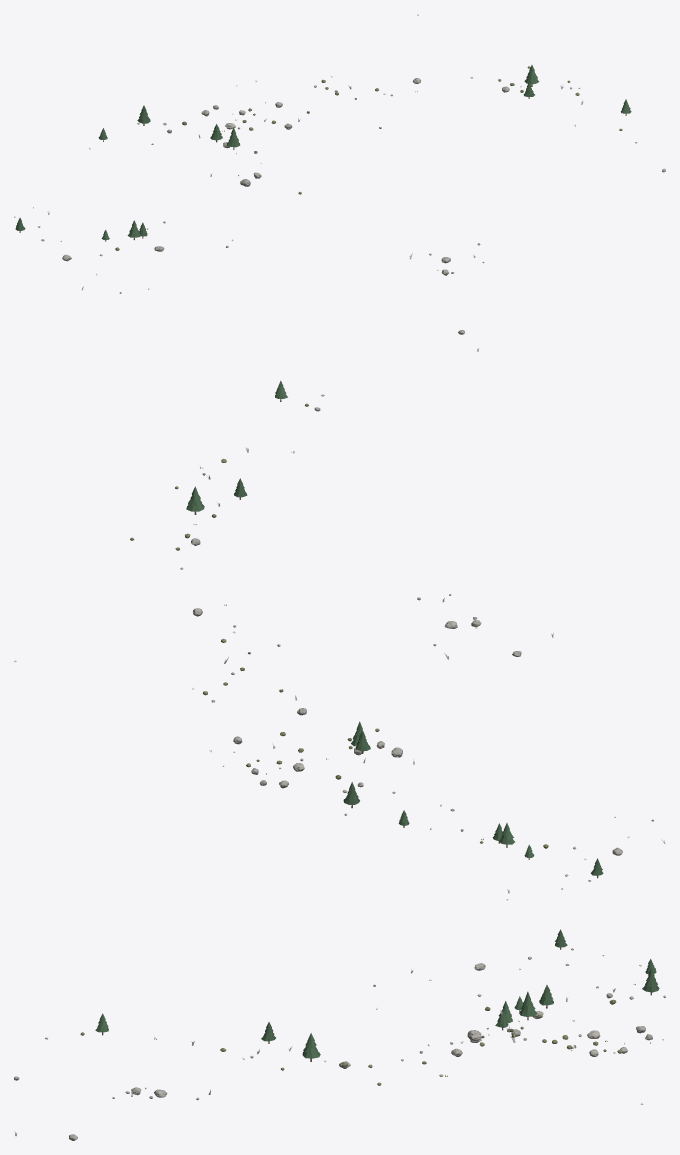
File: coast_land_scatter_c10_17.glb
The picture shows the model from 3 angles, top to bottom: view 1: azimuth 30°, elevation 25°; view 2: azimuth 150°, elevation 25°; view 3: azimuth 270°, elevation 25°; orthographic projection. The views are drawn at different scales.
Parts seen in each view (by area): view 1: coast_land_scatter_c10_17; view 2: coast_land_scatter_c10_17; view 3: coast_land_scatter_c10_17.
Part boxes in pixels (<box>): coast_land_scatter_c10_17: <box>14,14,665,351</box>; coast_land_scatter_c10_17: <box>14,380,665,900</box>; coast_land_scatter_c10_17: <box>14,929,665,1140</box>.
Size of the model in its own units: 255 by 101 by 251.
